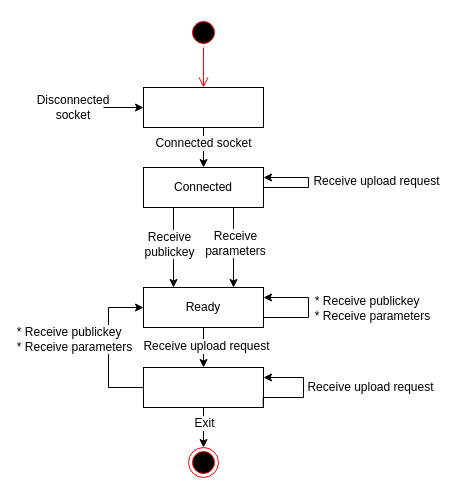
Some shapes in this 462 by 495 pixel diagram are drawn without their labels. The centre of each missing label's shape, as x and y in pixels:
"Init" belongs at point 203,107.
"Uploaded" belongs at point 203,387.
